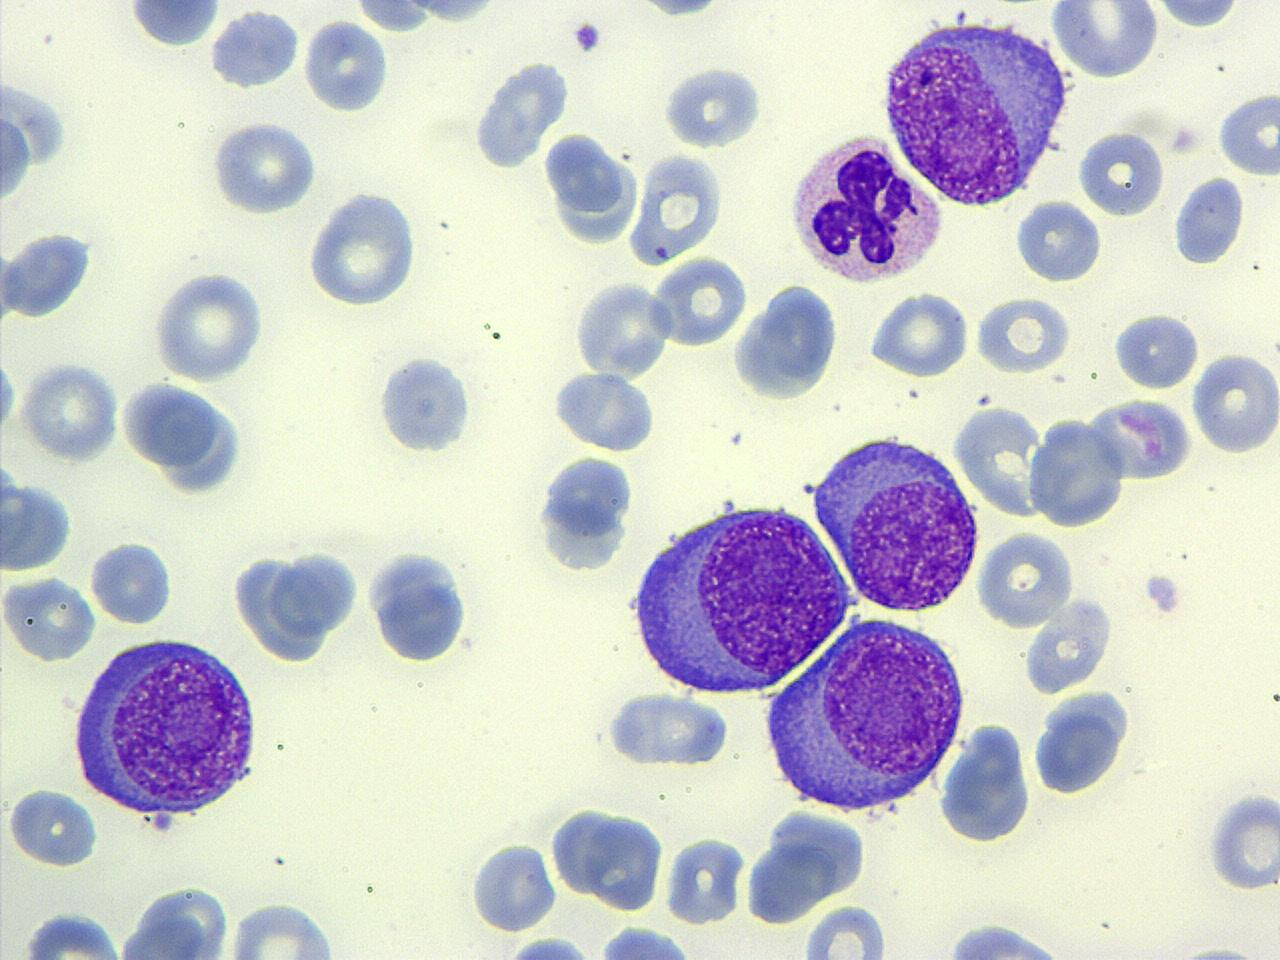Platelets: (206, 117, 322, 218), (18, 356, 124, 462), (658, 61, 770, 152), (1201, 789, 1279, 894), (15, 908, 129, 959), (1140, 570, 1184, 616), (636, 1, 728, 22), (1177, 939, 1267, 960), (0, 360, 18, 432), (1168, 122, 1200, 158), (570, 18, 602, 55)
RBC: (149, 266, 269, 383), (624, 150, 729, 267), (952, 401, 1050, 520), (206, 118, 321, 217), (18, 357, 122, 463), (571, 278, 674, 380), (976, 526, 1076, 630), (649, 251, 750, 351), (864, 288, 972, 380), (1087, 394, 1195, 484), (1190, 348, 1280, 455), (1046, 0, 1160, 83), (0, 572, 98, 665), (302, 16, 390, 116), (1074, 126, 1168, 219), (972, 292, 1075, 376), (86, 537, 179, 625), (662, 832, 748, 928), (588, 810, 664, 916), (1207, 790, 1280, 896), (1110, 309, 1202, 391), (226, 898, 341, 960), (13, 907, 128, 958), (798, 901, 892, 959)
WBC: (18, 0, 532, 217), (624, 493, 850, 697), (760, 610, 968, 818), (67, 626, 266, 832), (878, 11, 1074, 210), (808, 428, 982, 614), (783, 127, 948, 290), (223, 533, 369, 678), (738, 803, 872, 929), (120, 377, 252, 501), (305, 185, 423, 310), (364, 544, 478, 668), (731, 279, 844, 404), (532, 450, 640, 577), (934, 716, 1036, 847), (0, 54, 74, 232), (1027, 686, 1141, 800), (469, 55, 573, 175), (626, 148, 730, 268), (541, 126, 642, 249), (372, 349, 478, 456), (1031, 412, 1129, 526), (602, 686, 733, 768), (212, 120, 317, 219), (650, 247, 746, 356), (111, 879, 240, 960), (660, 59, 768, 153), (548, 366, 661, 452), (1023, 592, 1119, 690), (466, 837, 560, 934), (1075, 127, 1173, 221), (1, 228, 99, 322), (1045, 1, 1161, 80), (4, 781, 104, 871), (2, 572, 98, 666), (302, 17, 391, 117), (1012, 194, 1105, 287), (1, 466, 79, 578), (207, 5, 304, 93), (1202, 788, 1280, 896), (974, 292, 1074, 376), (87, 538, 180, 628), (662, 830, 746, 929), (1111, 307, 1201, 393), (1170, 170, 1248, 269), (331, 0, 526, 36), (918, 920, 1093, 959), (1214, 85, 1280, 179), (797, 898, 896, 960), (14, 907, 128, 958), (125, 0, 225, 52), (585, 921, 710, 958), (1142, 0, 1252, 31), (500, 934, 602, 960)
